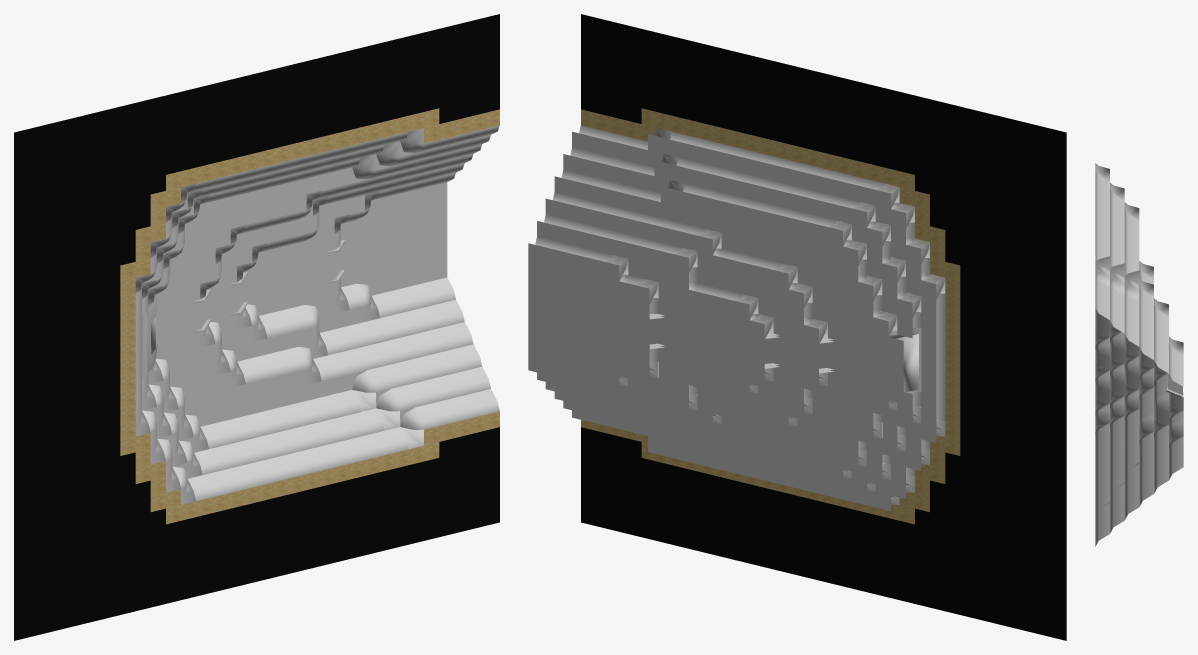
The model's file is Primal-Cave-1_00_01.obj.
The picture shows the model from 3 angles, left to right: view 1: azimuth 30°, elevation 25°; view 2: azimuth 150°, elevation 25°; view 3: azimuth 270°, elevation 25°; orthographic projection. The views are drawn at different scales.
Visible parts, largest first — view 1: map; view 2: map; view 3: map.
Part boxes in pixels (<box>): map: <box>14,14,499,640</box>; map: <box>528,14,1066,640</box>; map: <box>1095,163,1183,546</box>.
Size of the model in its own units: 32 by 32 by 6.01.
